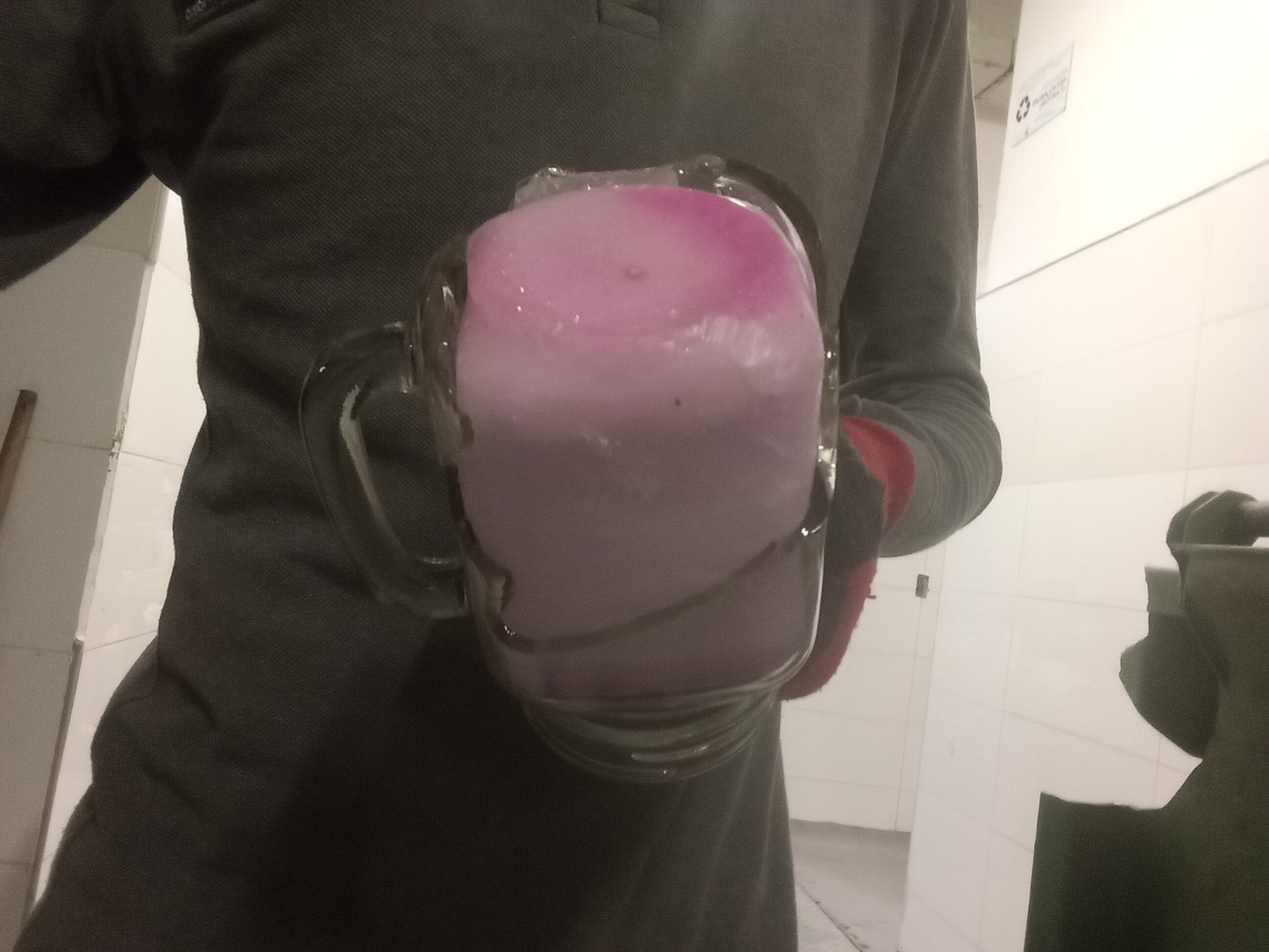Ordinario: (303, 157, 839, 777), (276, 455, 303, 469)
